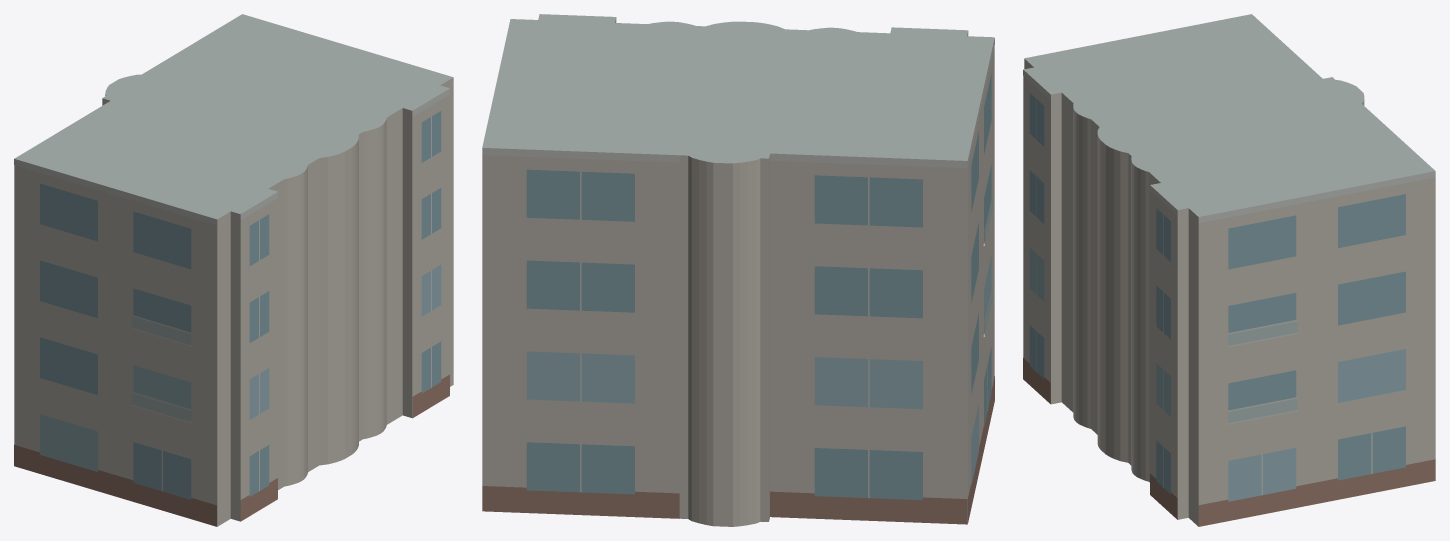
File: survey-upis-32741634.glb
The picture shows the model from 3 angles, left to right: view 1: azimuth 30°, elevation 25°; view 2: azimuth 150°, elevation 25°; view 3: azimuth 270°, elevation 25°; orthographic projection. The views are drawn at different scales.
Visible parts, largest first — view 1: survey-upis-32741634.tmp; view 2: survey-upis-32741634.tmp; view 3: survey-upis-32741634.tmp.
Boxes of the visible parts, x1,y1,x2,y2 form: survey-upis-32741634.tmp: (14, 14, 453, 526); survey-upis-32741634.tmp: (482, 14, 994, 526); survey-upis-32741634.tmp: (1023, 14, 1435, 526).
Size of the model in its own units: 17.17 by 12.2 by 14.73.
